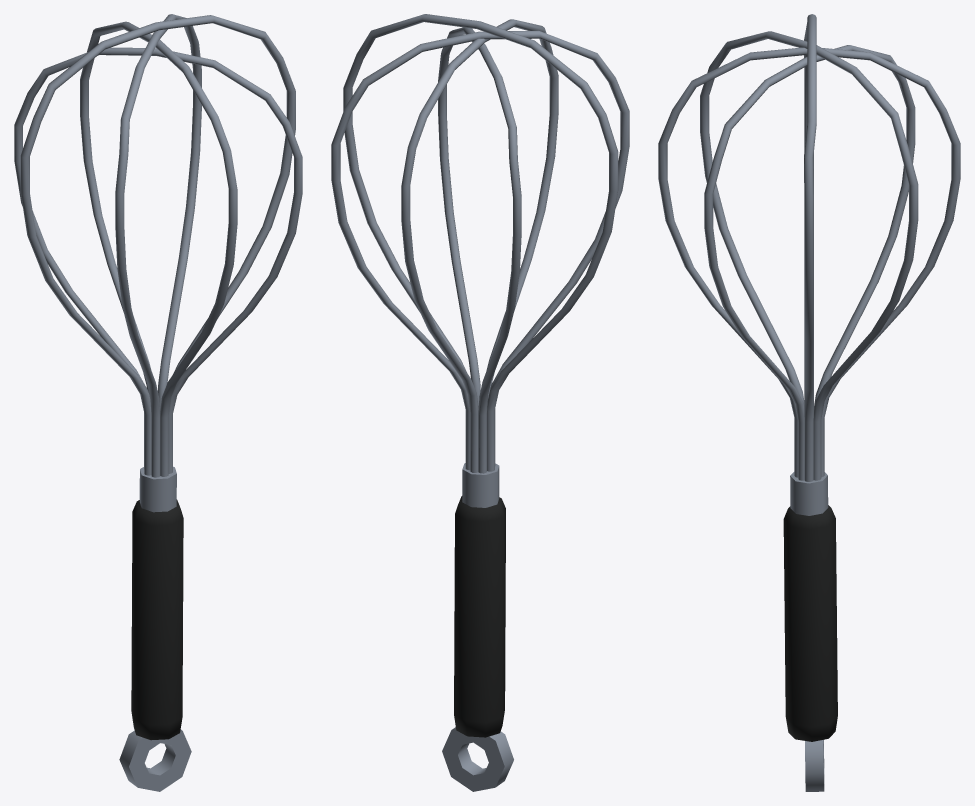
File: Whisk.glb
The picture shows the model from 3 angles, left to right: view 1: azimuth 30°, elevation 25°; view 2: azimuth 150°, elevation 25°; view 3: azimuth 270°, elevation 25°; orthographic projection.
Visible parts, largest first — view 1: cutensils_whisk_Cylinder.005; view 2: cutensils_whisk_Cylinder.005; view 3: cutensils_whisk_Cylinder.005.
Part boxes in pixels (<box>): cutensils_whisk_Cylinder.005: <box>14,14,302,791</box>; cutensils_whisk_Cylinder.005: <box>331,14,629,791</box>; cutensils_whisk_Cylinder.005: <box>658,14,960,791</box>.
Bounding box in the file's own units: 2.3 × 6.13 × 2.22.
Materials: 1 (1 with a texture image).
